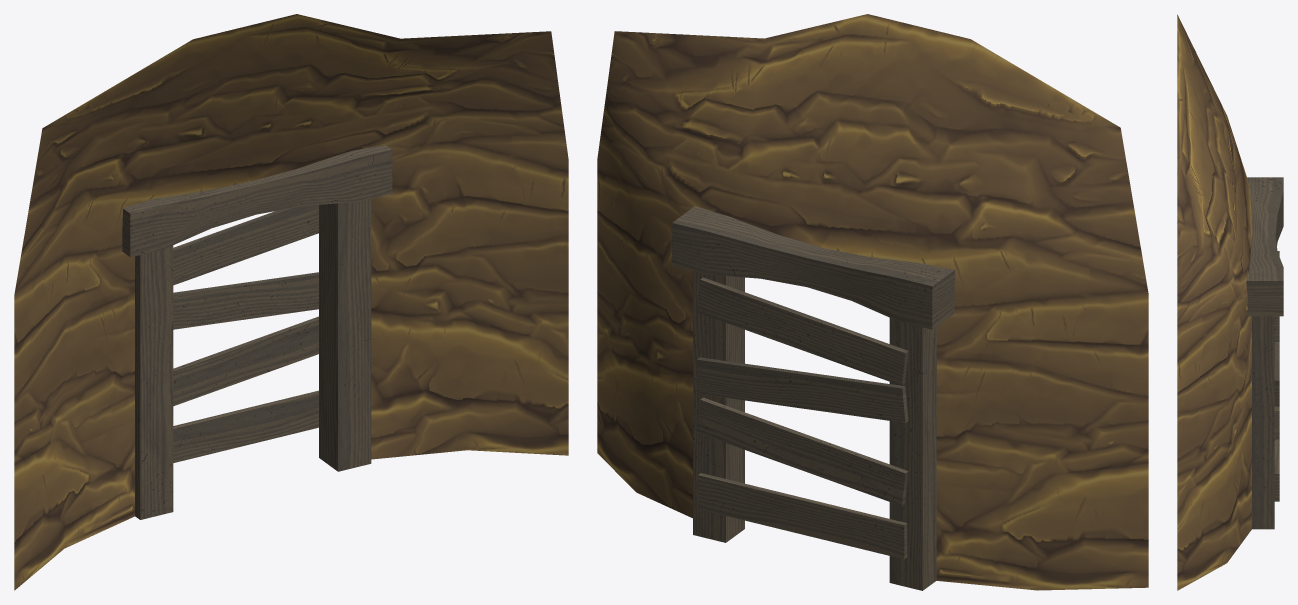
File: Prop_HubShop_01.FBX
3 views of the same model, side by side, from view 1: azimuth 30°, elevation 25°; view 2: azimuth 150°, elevation 25°; view 3: azimuth 270°, elevation 25° (orthographic). The views are drawn at different scales.
Visible parts, largest first — view 1: Prop_HubShop_01, Prop_HubShop_01_Closed; view 2: Prop_HubShop_01, Prop_HubShop_01_Closed; view 3: Prop_HubShop_01, Prop_HubShop_01_Closed.
Part boxes in pixels (x1,y1,x2,y2): Prop_HubShop_01: (14, 14, 568, 590); Prop_HubShop_01_Closed: (173, 205, 318, 462); Prop_HubShop_01: (597, 14, 1148, 590); Prop_HubShop_01_Closed: (696, 277, 908, 559); Prop_HubShop_01: (1177, 14, 1283, 590); Prop_HubShop_01_Closed: (1274, 251, 1279, 501).
Bounding box in the file's own units: 6.17 × 5.4 × 1.27.
